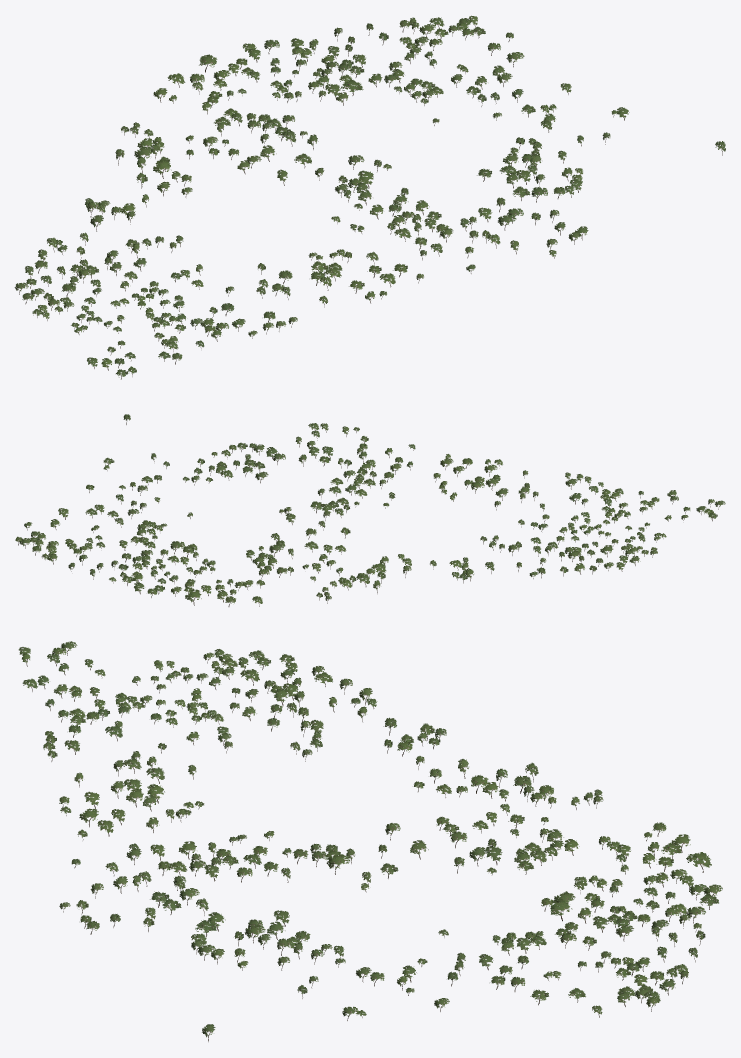
3 views of the same model, one above another, from view 1: azimuth 30°, elevation 25°; view 2: azimuth 150°, elevation 25°; view 3: azimuth 270°, elevation 25° (orthographic). The views are drawn at different scales.
Parts seen in each view (by area): view 1: tree_small_02 2 0 crown, tree_small_02 0 2 crown, tree_small_02 2 2 crown, tree_small_02 0 1 crown, tree_small_02 2 1 crown, tree_small_02 1 0 crown, tree_small_02 3 0 crown, tree_small_02 1 2 crown, tree_small_02 1 1 crown, tree_small_02 3 1 crown; view 2: tree_small_02 2 0 crown, tree_small_02 0 2 crown, tree_small_02 2 2 crown, tree_small_02 0 1 crown, tree_small_02 2 1 crown, tree_small_02 1 0 crown, tree_small_02 1 2 crown, tree_small_02 3 0 crown, tree_small_02 1 1 crown, tree_small_02 3 1 crown; view 3: tree_small_02 2 0 crown, tree_small_02 0 2 crown, tree_small_02 0 1 crown, tree_small_02 2 2 crown, tree_small_02 2 1 crown, tree_small_02 1 2 crown, tree_small_02 1 0 crown, tree_small_02 3 0 crown, tree_small_02 1 1 crown, tree_small_02 3 1 crown.
Part boxes in pixels (left/top/right/bottom): tree_small_02 2 0 crown: left=190, top=23, right=443, bottom=142; tree_small_02 0 2 crown: left=32, top=270, right=273, bottom=377; tree_small_02 2 2 crown: left=391, top=179, right=588, bottom=271; tree_small_02 0 1 crown: left=14, top=198, right=163, bottom=306; tree_small_02 2 1 crown: left=294, top=118, right=572, bottom=219; tree_small_02 1 0 crown: left=115, top=73, right=269, bottom=174; tree_small_02 3 0 crown: left=399, top=15, right=524, bottom=94; tree_small_02 1 2 crown: left=196, top=223, right=426, bottom=327; tree_small_02 1 1 crown: left=120, top=145, right=364, bottom=248; tree_small_02 3 1 crown: left=477, top=83, right=629, bottom=174; tree_small_02 2 0 crown: left=68, top=520, right=285, bottom=602; tree_small_02 0 2 crown: left=530, top=476, right=725, bottom=554; tree_small_02 2 2 crown: left=237, top=423, right=415, bottom=486; tree_small_02 0 1 crown: left=452, top=535, right=640, bottom=579; tree_small_02 2 1 crown: left=187, top=449, right=367, bottom=540; tree_small_02 1 0 crown: left=225, top=548, right=386, bottom=603; tree_small_02 1 2 crown: left=379, top=454, right=583, bottom=524; tree_small_02 3 0 crown: left=15, top=504, right=139, bottom=561; tree_small_02 1 1 crown: left=304, top=492, right=498, bottom=573; tree_small_02 3 1 crown: left=86, top=452, right=217, bottom=509; tree_small_02 2 0 crown: left=469, top=842, right=722, bottom=958; tree_small_02 0 2 crown: left=18, top=641, right=232, bottom=743; tree_small_02 0 1 crown: left=221, top=650, right=446, bottom=747; tree_small_02 2 2 crown: left=59, top=841, right=230, bottom=955; tree_small_02 2 1 crown: left=221, top=840, right=464, bottom=956; tree_small_02 1 2 crown: left=43, top=740, right=232, bottom=853; tree_small_02 1 0 crown: left=471, top=762, right=690, bottom=853; tree_small_02 3 0 crown: left=479, top=951, right=688, bottom=1014; tree_small_02 1 1 crown: left=229, top=739, right=468, bottom=855; tree_small_02 3 1 crown: left=237, top=949, right=465, bottom=1016.
Size of the model in its own units: 601 by 14 by 459.
2 materials, 2 textured.
